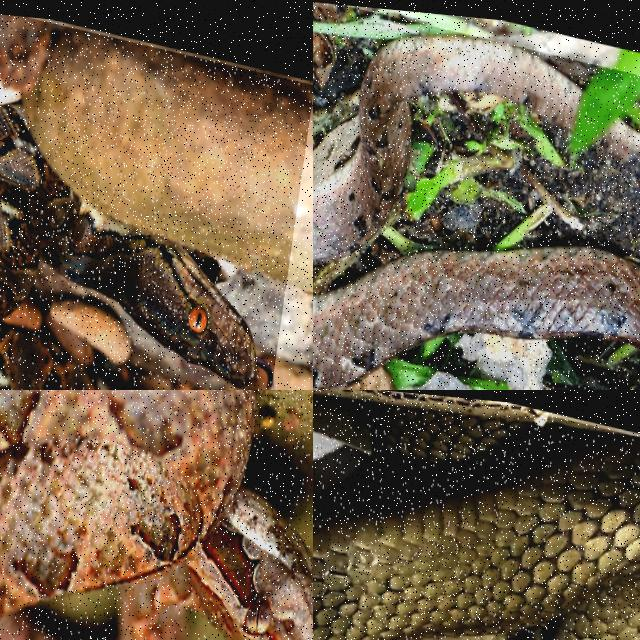Calloselasma rhodostoma: (0, 390, 312, 639), (313, 35, 581, 264)
Malayopython reticulatus: (0, 105, 272, 386)
Ophiophagus hannah: (313, 407, 639, 639)
